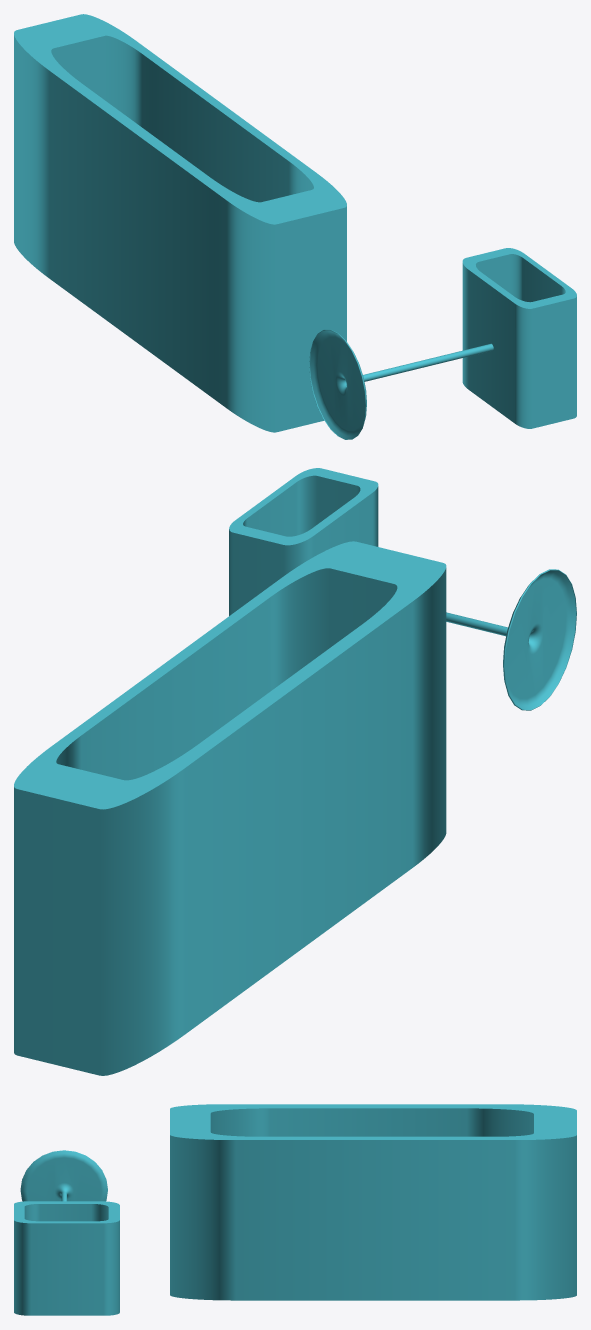
The picture shows the model from 3 angles, top to bottom: view 1: azimuth 30°, elevation 25°; view 2: azimuth 150°, elevation 25°; view 3: azimuth 270°, elevation 25°; orthographic projection. The views are drawn at different scales.
Visible parts, largest first — view 1: Renderer Node; view 2: Renderer Node; view 3: Renderer Node.
Part boxes in pixels (x1,y1,x2,y2): Renderer Node: [14, 14, 576, 439]; Renderer Node: [14, 468, 576, 1075]; Renderer Node: [14, 1104, 576, 1315].
Size of the model in its own units: 0.3124 by 0.2848 by 0.9062.
1 material, 1 textured.
